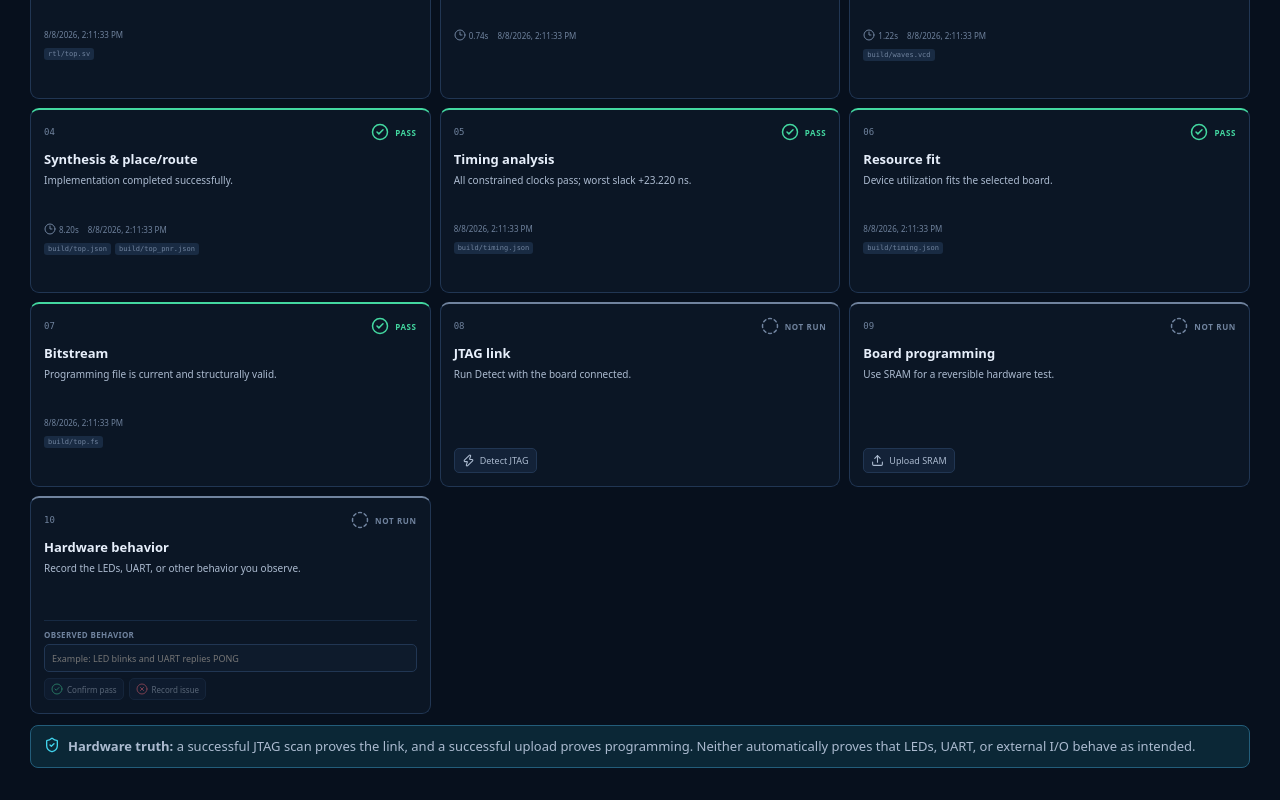
Scenario: 2.1 design intelligence views › records explicit user evidence instead of inferring hardware behavior
(page scrolled)
Step 1. Type "LED blinks and UART replies PONG" into the field labelled "Observed behavior" → {"x": 230, "y": 658}, box x1=44 y1=644 x2=417 y2=672
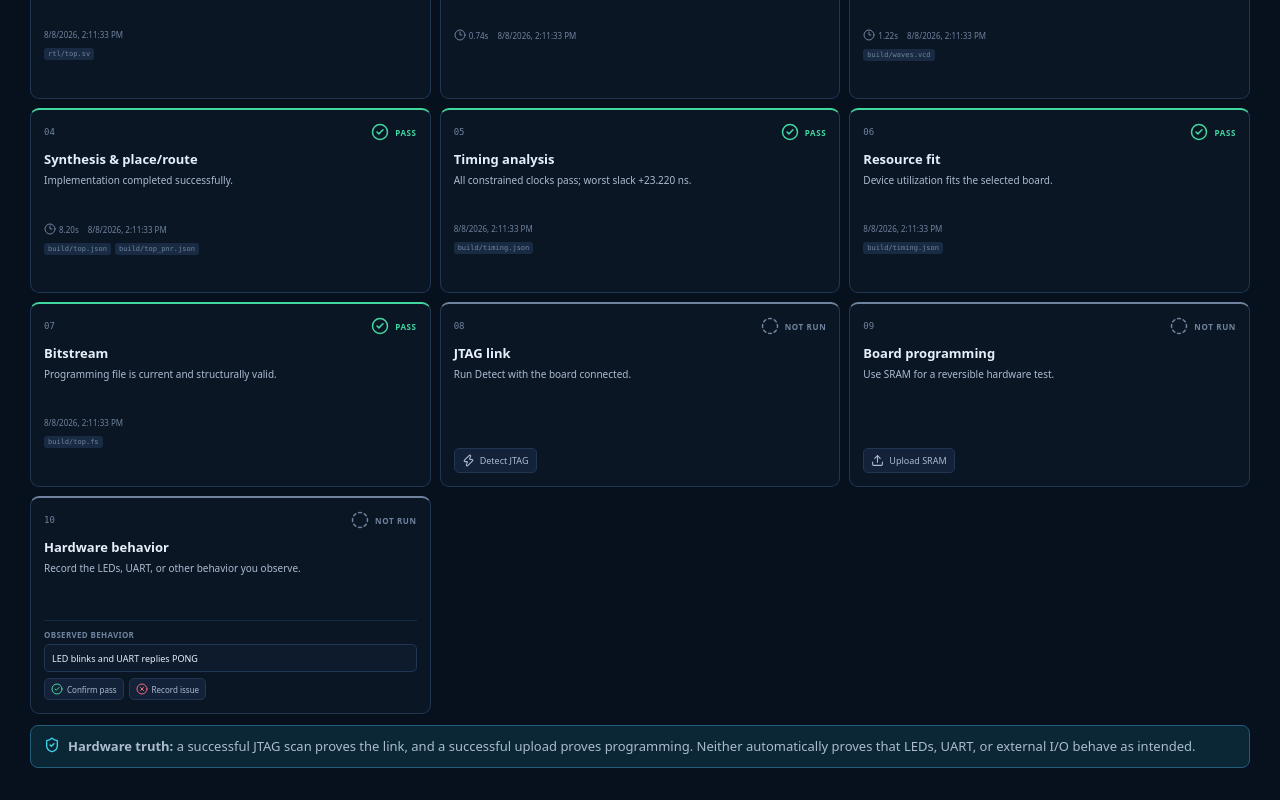
Step 2. Click the button "Confirm pass" → {"x": 84, "y": 689}, box x1=44 y1=678 x2=124 y2=700
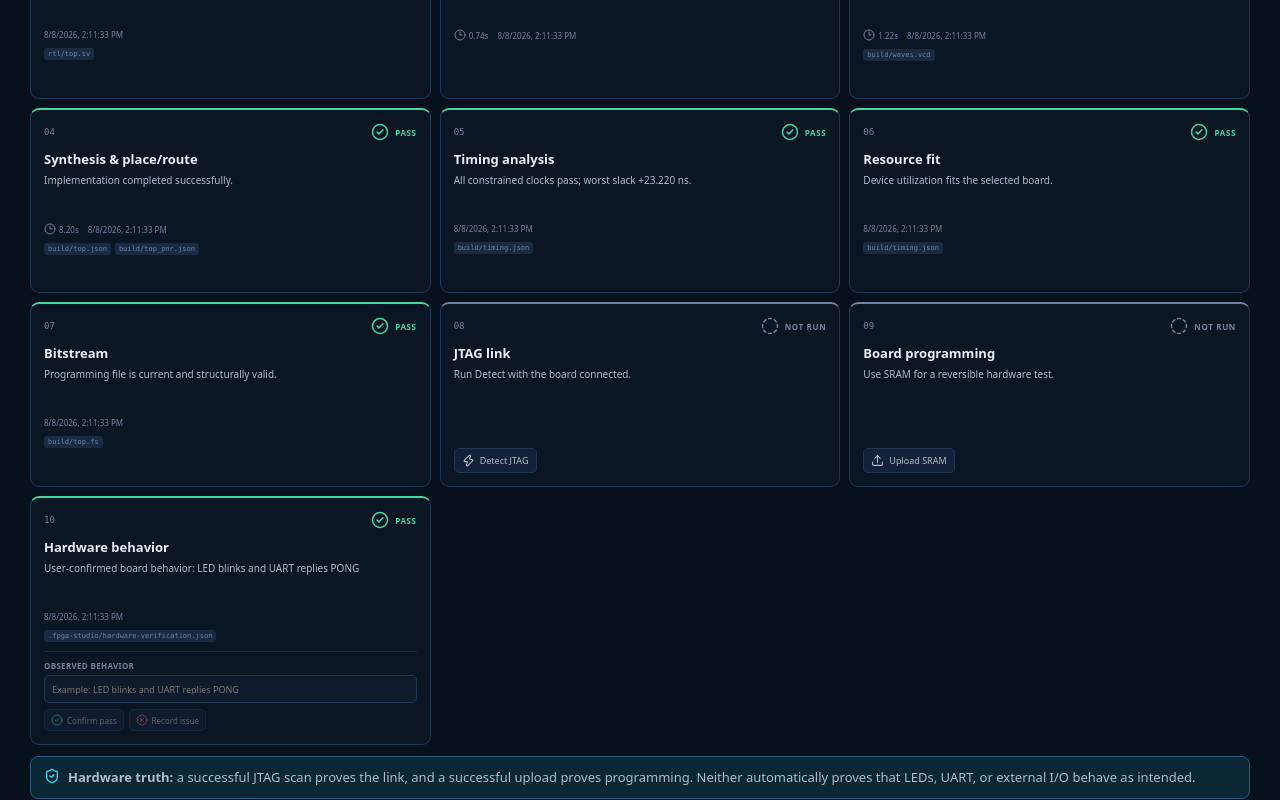
expect the text "User-confirmed board behavior" is shown: met, box x1=44 y1=561 x2=359 y2=575
